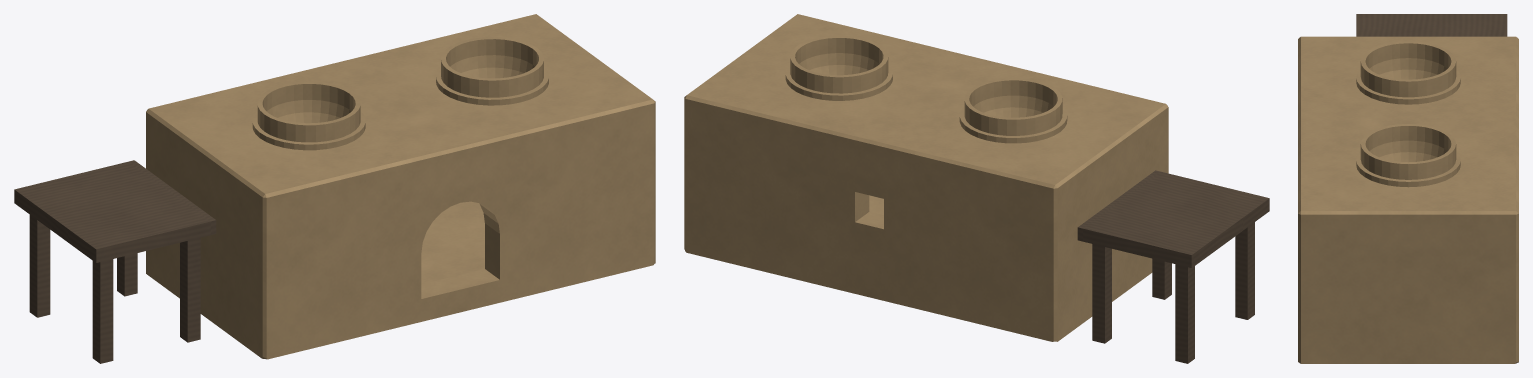
Rendered from stove-B-LOD1.glb.
3 renders of one model, left to right at view 1: azimuth 30°, elevation 25°; view 2: azimuth 150°, elevation 25°; view 3: azimuth 270°, elevation 25°, orthographic. The views are drawn at different scales.
Visible parts, largest first — view 1: B_earth, B_timber; view 2: B_earth, B_timber; view 3: B_earth, B_timber.
Part boxes in pixels (box(x1,y1,x2,y2)): B_earth: box(146, 14, 655, 359); B_timber: box(14, 160, 216, 363); B_earth: box(684, 14, 1168, 341); B_timber: box(1077, 170, 1269, 363); B_earth: box(1298, 36, 1518, 363); B_timber: box(1356, 14, 1507, 36).
Size of the model in its own units: 2.42 by 0.82 by 0.95.
Materials: 2 (2 with a texture image).
